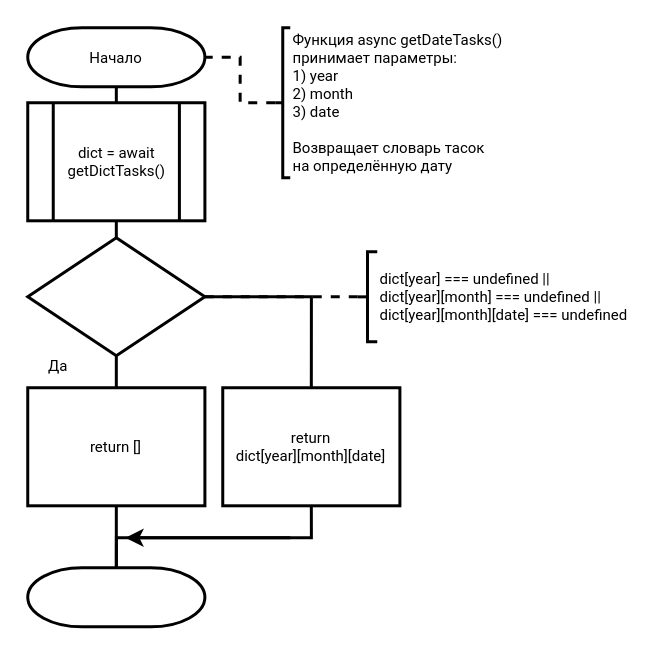
The diagram is 653 pixels wide and 654 high, and some of its shapes have lost their labels. Each missing label, with the centre of its shape:
dict[year] === undefined: (x=116, y=296)
Конец: (x=116, y=597)
